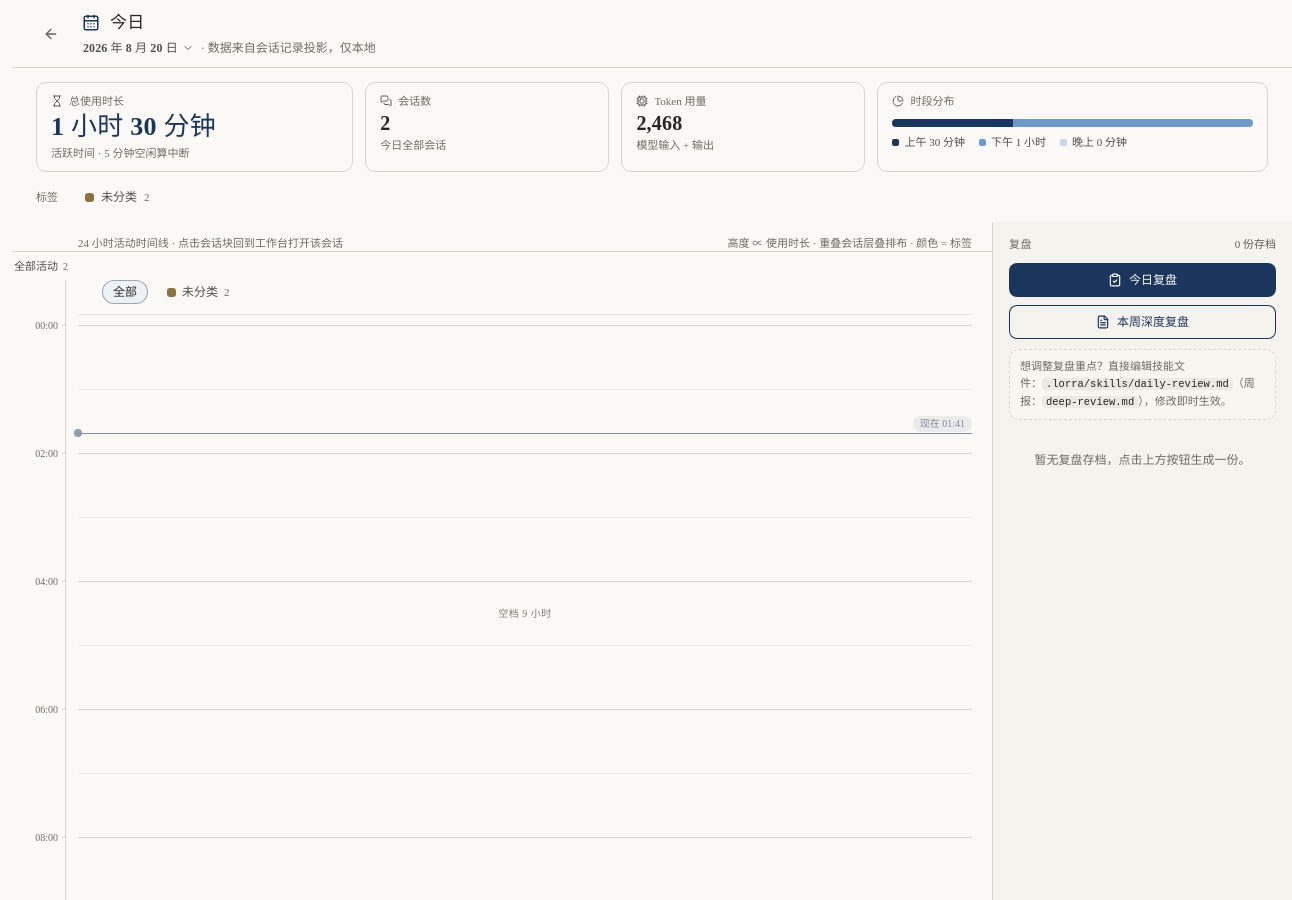
Test: Requirement: 生成失败与无模型退化 › Scenario 无模型配置:generate 返回 model-unavailable → 提示含下一步指引,时间线不受影响
Click the button "今日复盘": (1142, 280) [1009,262,1276,296]
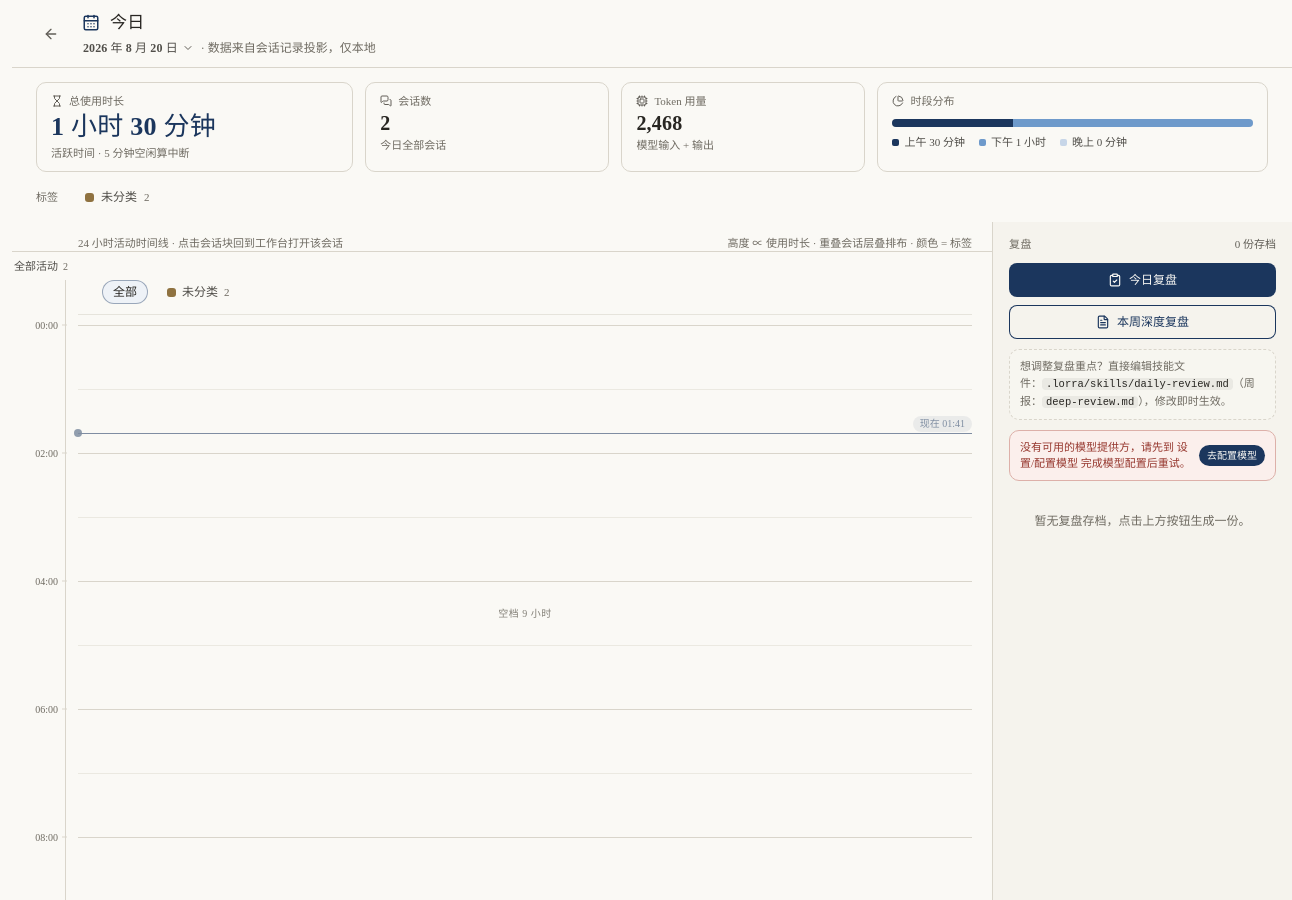
Expected: the message with test id "review-error" shows "没有可用的模型提供方", [1020,441,1191,469]
Expected: the message with test id "review-error" reads "没有可用的模型提供方，请先到 设置/配置模型 完成模型配置后重试。 去配置模型", [1020,441,1191,469]
